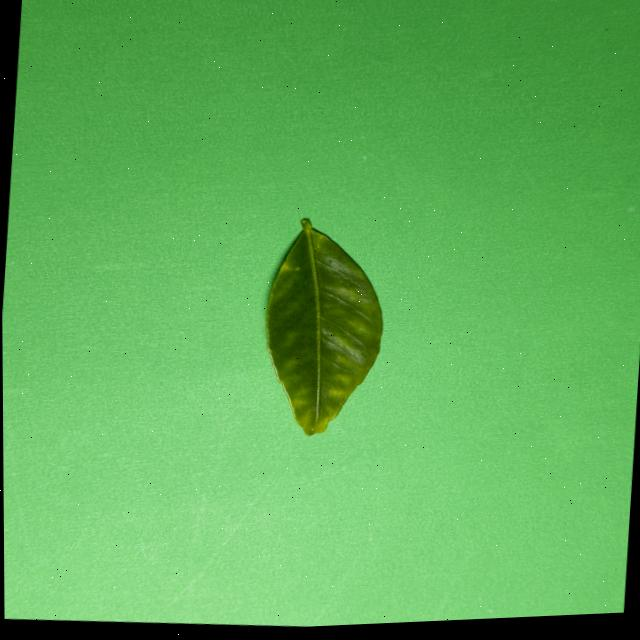greening: (266, 219, 382, 435)
